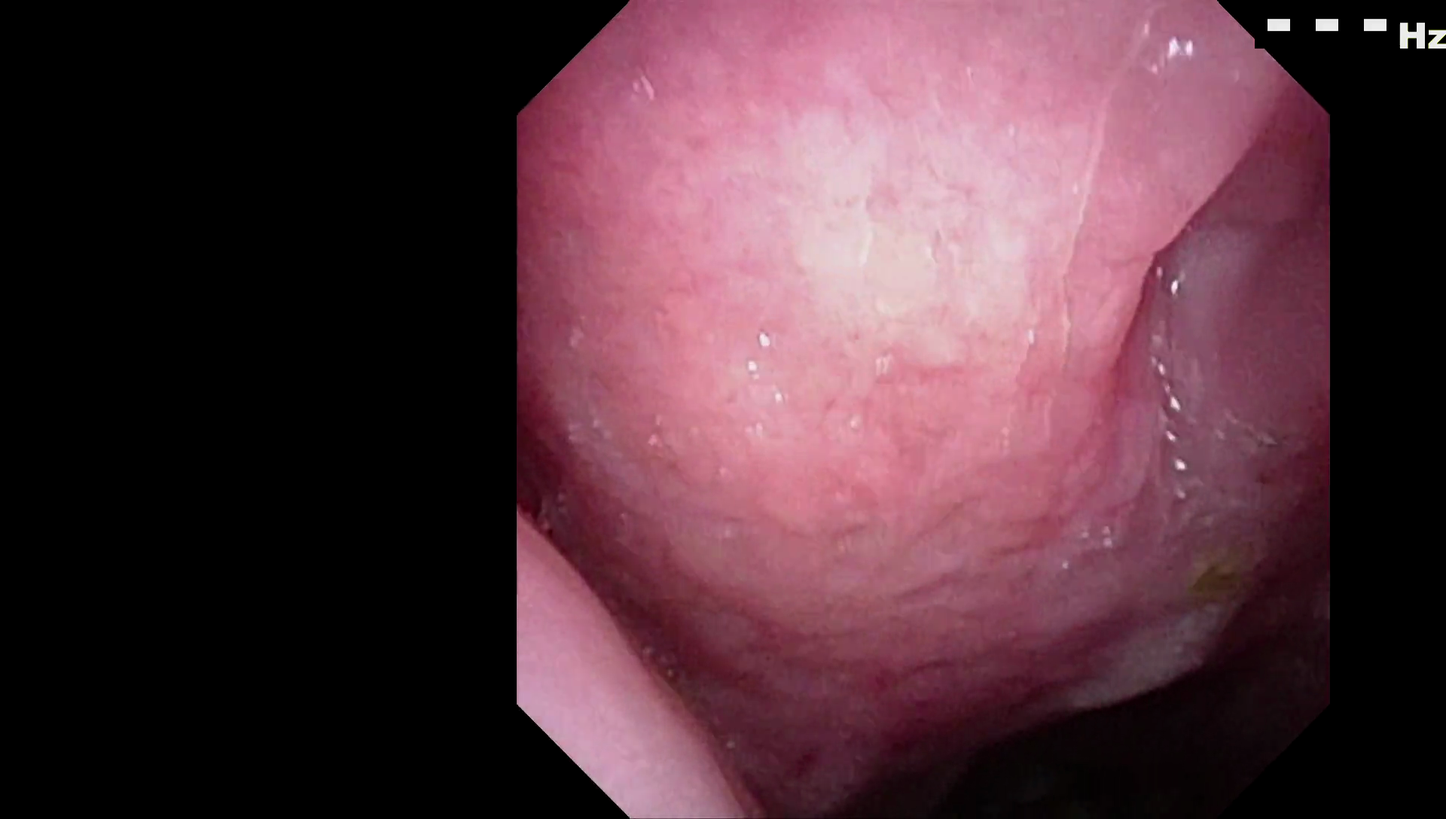close_wall: (612, 29, 1200, 531)
next: (772, 626, 1296, 819)
